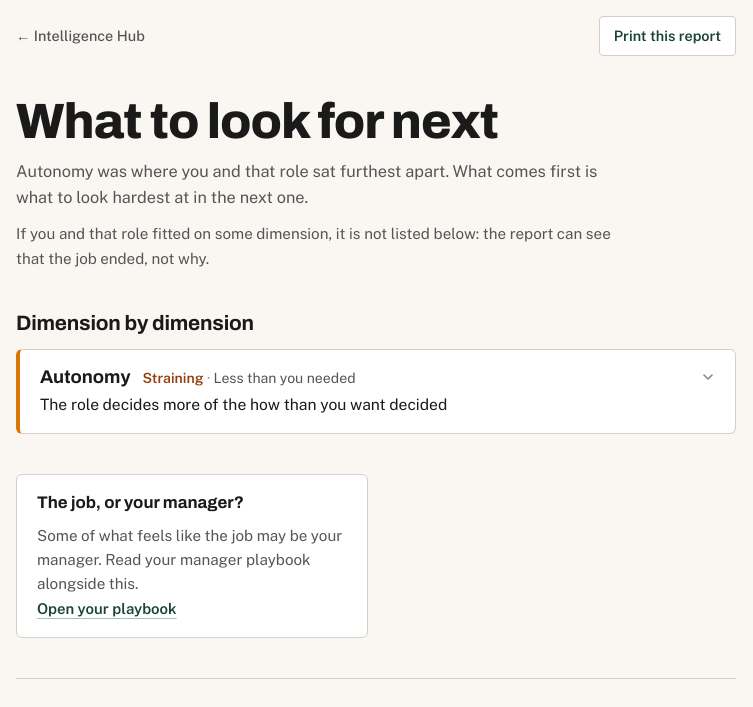
Test: SituationReportPage › complete, needs-forward › renders the server's slice without filling the gaps back in
Expected: the heading "What to look for next" is shown, [16,94,498,148]
Click the button named "Show guidance for" at (378, 391), box [20,350,735,433]
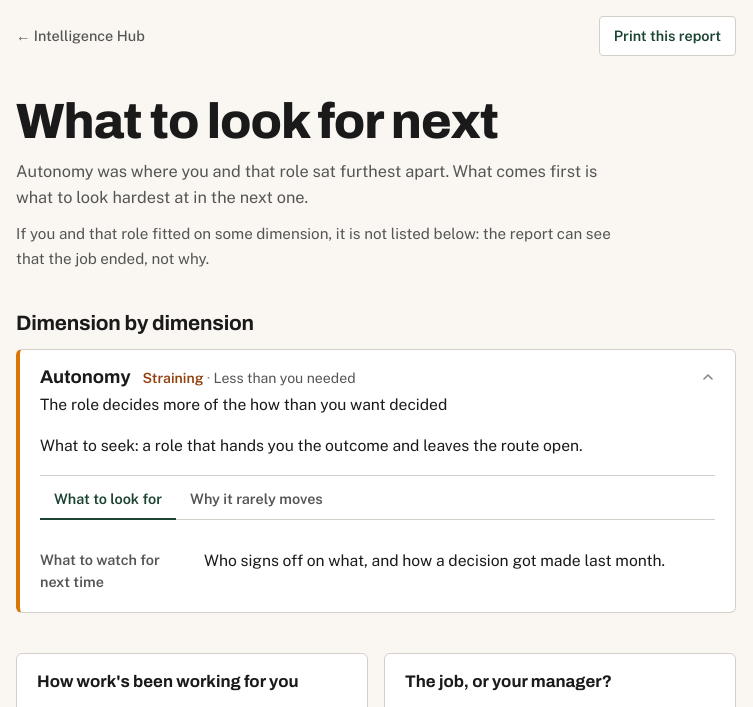
Now the tab "What to look for" is shown, box [40,480,176,520]
Now the text "What to watch for next time" is shown, box [40,551,160,590]
Click the tab "Why it rarely moves" at (256, 500), box [176,480,337,520]
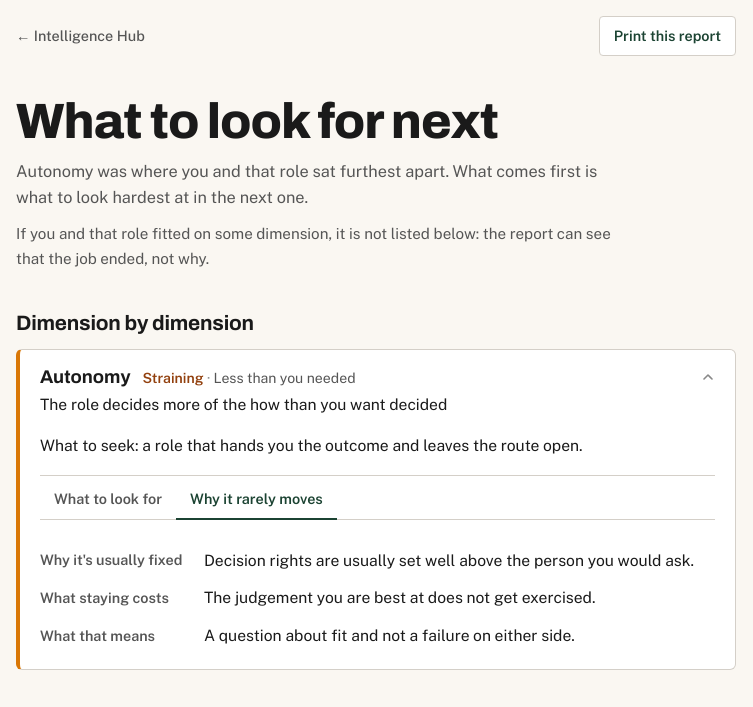
Now the text "Decision rights are usually set well above" is shown, box [204,550,694,570]
